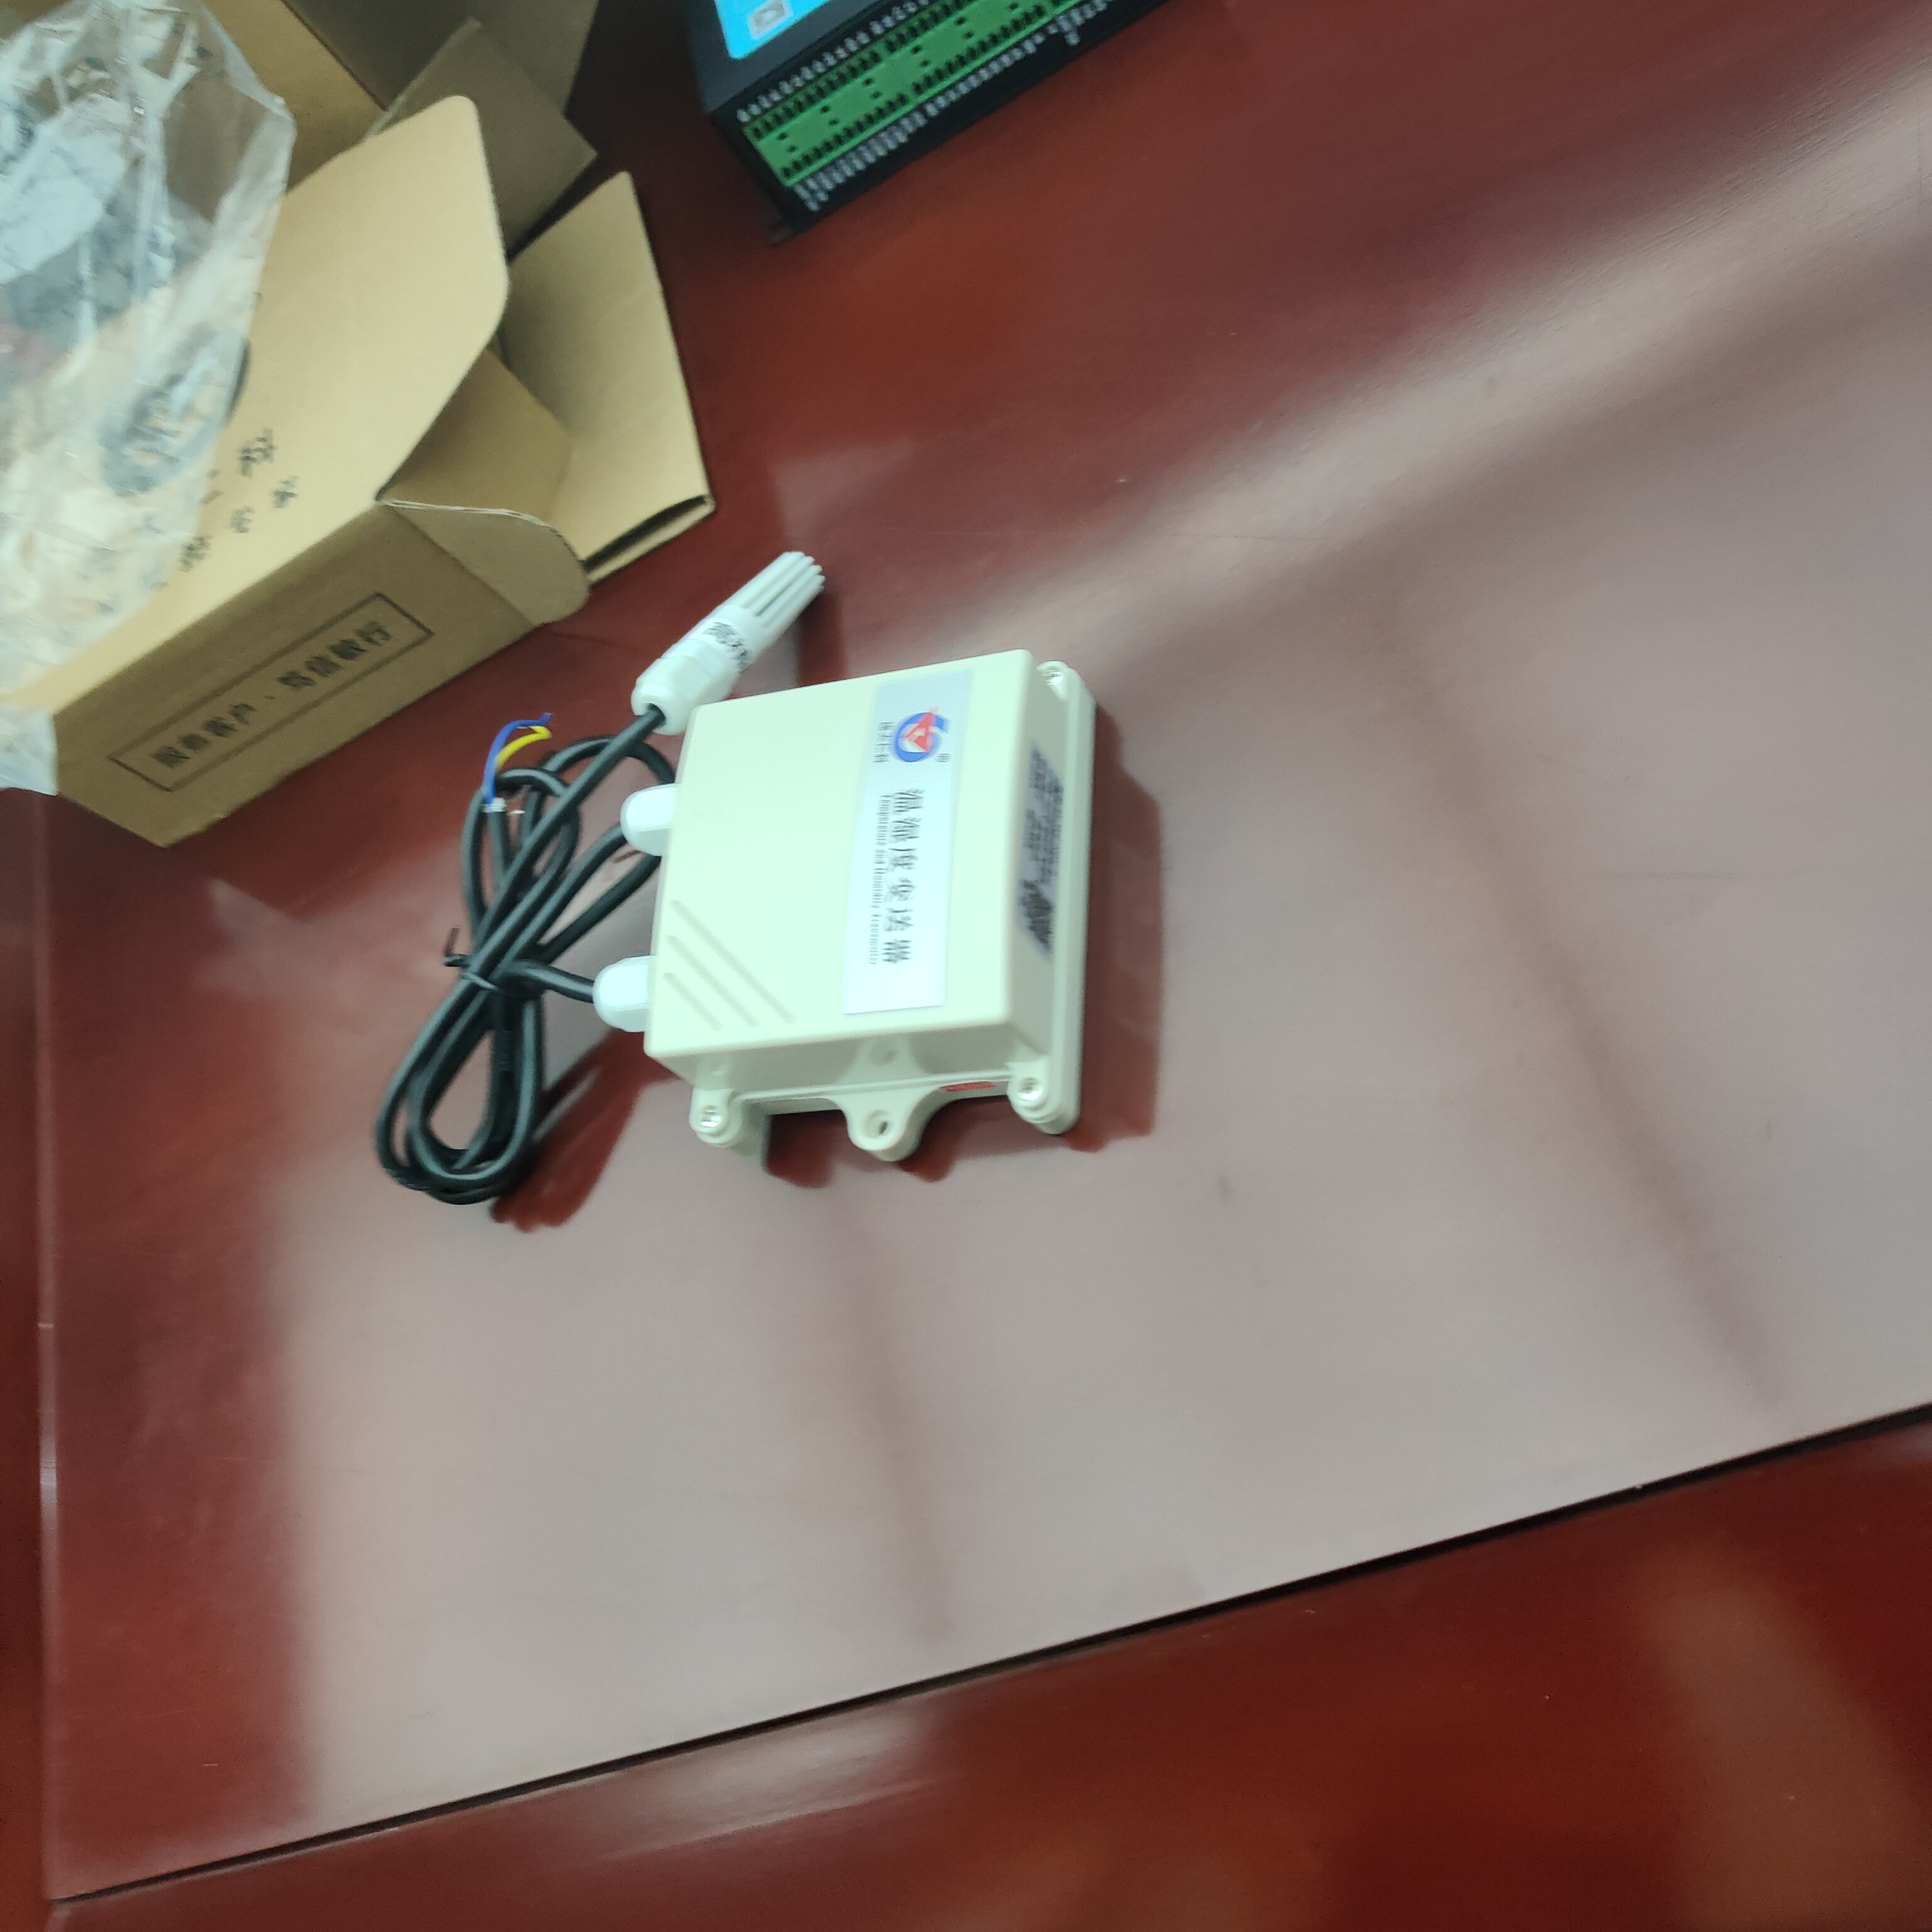wsdbsq: (648, 683, 1138, 1180)
